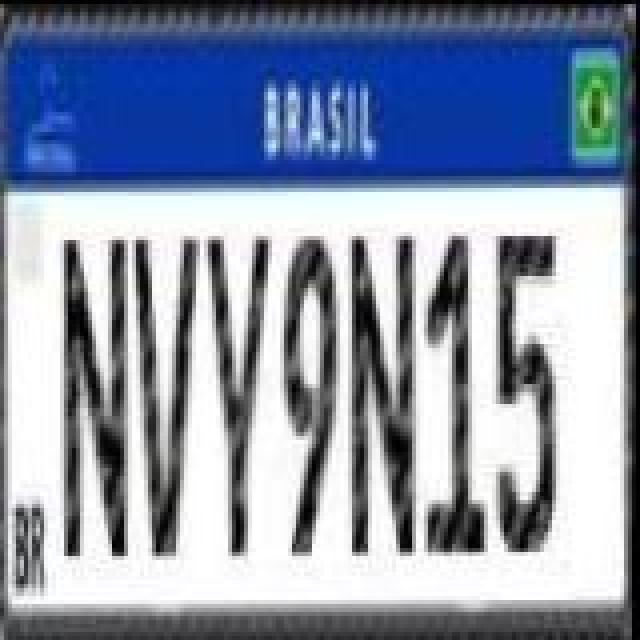1: (418, 232, 490, 568)
5: (490, 230, 562, 554)
9: (278, 226, 350, 562)
N: (60, 228, 136, 564), (350, 230, 422, 554)
V: (132, 228, 208, 564)
Y: (204, 234, 280, 558)
